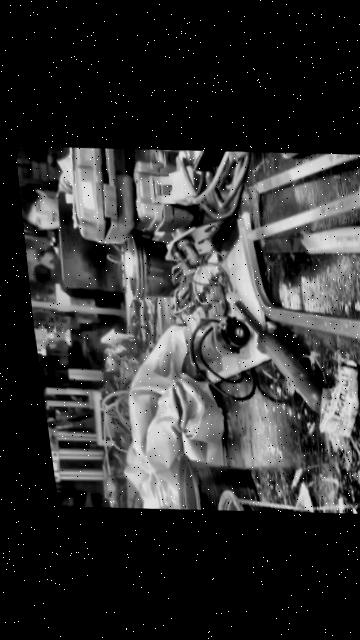pot: (175, 482, 309, 517), (178, 457, 256, 510)
